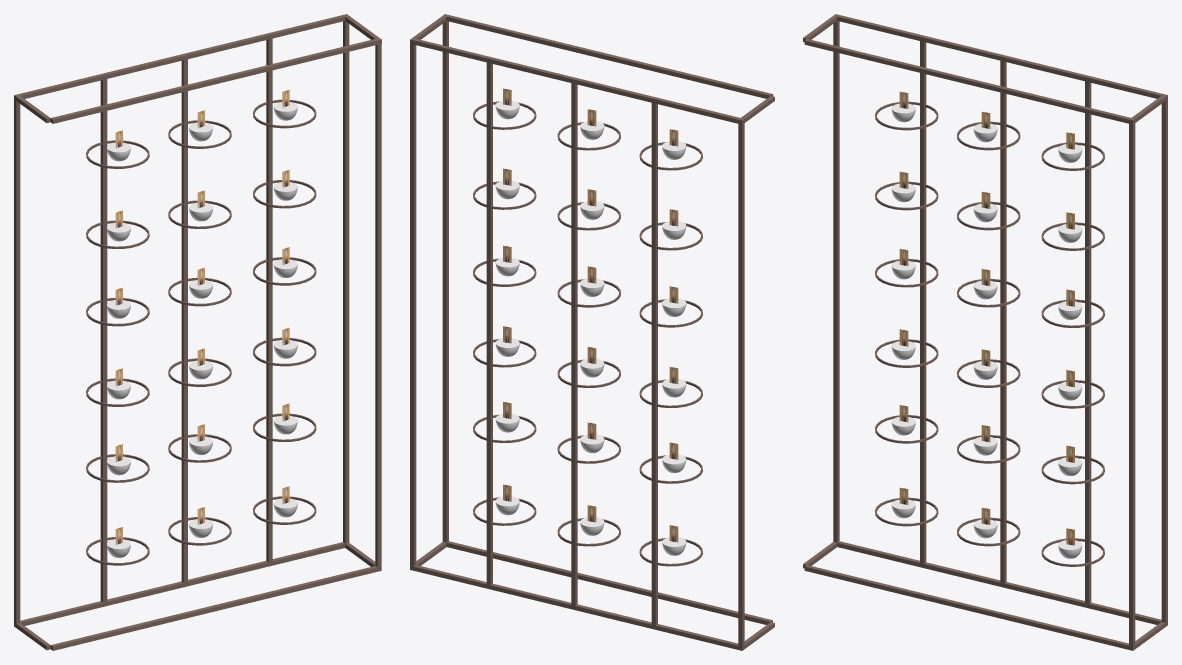
The model's file is item.glb.
The picture shows the model from 3 angles, left to right: view 1: azimuth 30°, elevation 25°; view 2: azimuth 150°, elevation 25°; view 3: azimuth 330°, elevation 25°; orthographic projection.
Visible parts, largest first — view 1: group_4, group_9, group_39, group_6, group_5, group_7, group_11, object 4, group_10, group_3; view 2: group_39, group_6, group_5, group_4, group_7, group_9, group_11, group_10, group_3, object 4; view 3: group_9, group_6, group_39, group_7, group_4, group_5, group_11, group_10, object 4, group_3.
Part boxes in pixels (x1,y1,x2,y2): group_4: [100, 79, 107, 606]; group_9: [375, 39, 381, 571]; group_39: [14, 94, 20, 627]; group_6: [343, 14, 349, 543]; group_5: [266, 38, 272, 566]; group_7: [181, 59, 187, 584]; group_11: [50, 38, 381, 123]; object 4: [50, 566, 377, 650]; group_10: [18, 15, 345, 98]; group_3: [20, 542, 345, 625]; group_39: [738, 118, 744, 650]; group_6: [410, 38, 416, 570]; group_5: [486, 62, 492, 589]; group_4: [651, 103, 657, 625]; group_7: [571, 83, 577, 609]; group_9: [442, 21, 448, 542]; group_11: [443, 14, 773, 98]; group_10: [414, 39, 739, 123]; group_3: [414, 565, 738, 649]; object 4: [446, 541, 772, 624]; group_9: [1129, 120, 1135, 650]; group_6: [1161, 94, 1167, 626]; group_39: [833, 14, 839, 542]; group_7: [1000, 60, 1006, 587]; group_4: [920, 41, 926, 563]; group_5: [1085, 81, 1091, 603]; group_11: [804, 39, 1135, 124]; group_10: [837, 15, 1163, 98]; object 4: [804, 565, 1128, 649]; group_3: [837, 541, 1161, 624].
Size of the model in its own units: 1.65 by 2.52 by 0.3.
8 materials, 3 textured.
